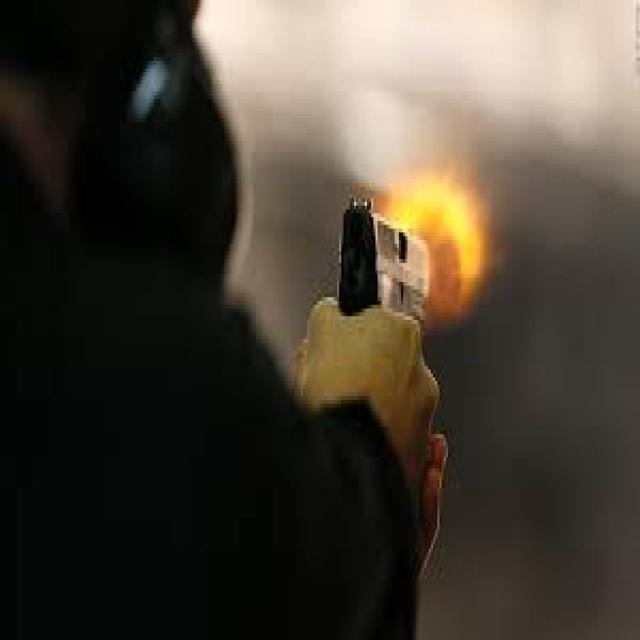gun: (332, 169, 469, 413)
